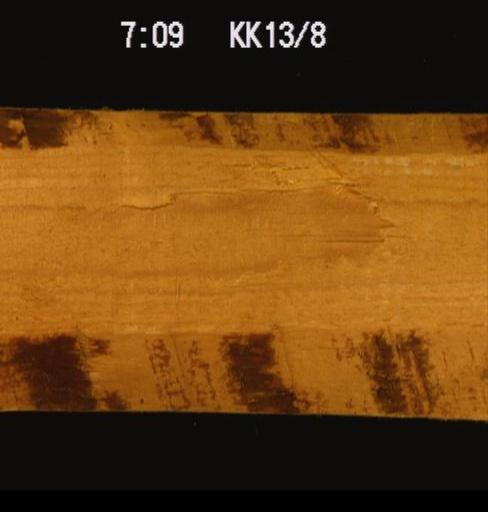split: (306, 227, 391, 247)
wave: (0, 319, 486, 418), (0, 111, 486, 160)
